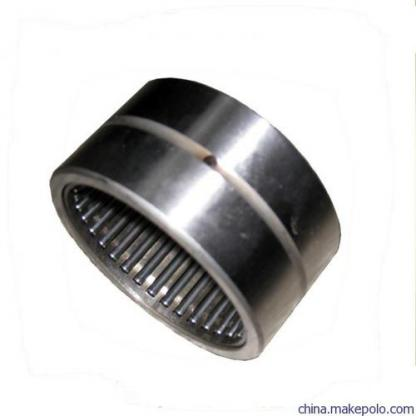FOD: (46, 71, 343, 367)
